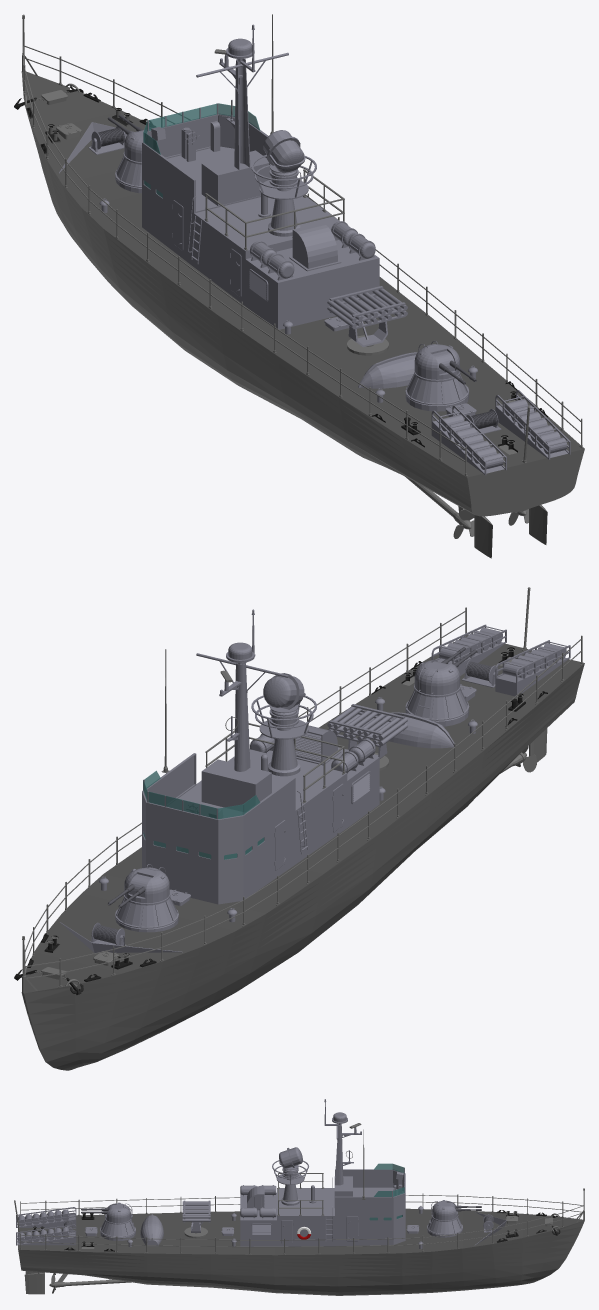
The model's file is patrolboat.obj.
The picture shows the model from 3 angles, top to bottom: view 1: azimuth 30°, elevation 25°; view 2: azimuth 150°, elevation 25°; view 3: azimuth 270°, elevation 25°; orthographic projection. The views are drawn at different scales.
Visible parts, largest first — view 1: Loft03, cabin, fence, fence2, Rectangle01, Rectangle02, Rectangle07, Cylinder04, life_raft, basturret01, inlet, Loft05 (+7 smaller); view 2: Loft03, cabin, fence2, fence, Rectangle01, Rectangle02, Rectangle07, Cylinder04, basturret, basturret01, Loft05, windshield (+9 smaller); view 3: Loft03, cabin, fence2, Rectangle01, fence, Rectangle07, Rectangle02, basturret01, life_raft, Cylinder04, basturret, Loft05 (+10 smaller).
Boxes of the visible parts, x1,y1,x2,y2 form: Loft03: (21,71,584,558); cabin: (142,114,379,329); fence: (22,14,583,476); fence2: (23,45,580,461); Rectangle01: (431,390,570,475); Rectangle02: (196,24,288,169); Rectangle07: (251,154,316,236); Cylinder04: (327,286,407,329); life_raft: (250,221,375,280); basturret01: (405,369,469,411); inlet: (289,222,341,271); Loft05: (358,352,417,388); Loft03: (21,634,584,1070); cabin: (142,747,379,904); fence2: (24,610,581,978); fence: (22,587,583,993); Rectangle01: (431,624,570,696); Rectangle02: (196,609,288,771); Rectangle07: (251,695,316,776); Cylinder04: (327,704,407,747); basturret: (115,892,178,932); basturret01: (405,684,469,726); Loft05: (356,710,454,748); windshield: (143,770,260,819); Loft03: (18,1208,584,1295); cabin: (240,1169,405,1246); fence2: (21,1195,583,1247); Rectangle01: (16,1207,76,1245); fence: (14,1173,584,1254); Rectangle07: (272,1160,308,1205); Rectangle02: (324,1099,361,1185); basturret01: (100,1217,135,1240); life_raft: (240,1185,276,1219); Cylinder04: (182,1200,210,1222); basturret: (427,1215,462,1237); Loft05: (140,1214,163,1246).
Bounding box in the file's own units: 1816 × 3555 × 9753.
